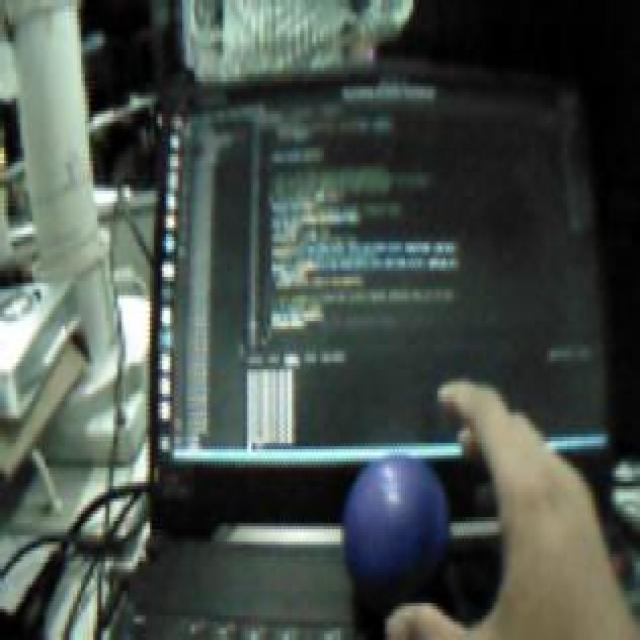BallPurple: (340, 455, 449, 595)
